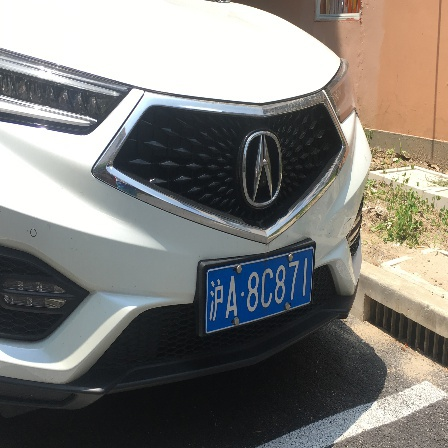plate: (201, 255, 319, 321)
